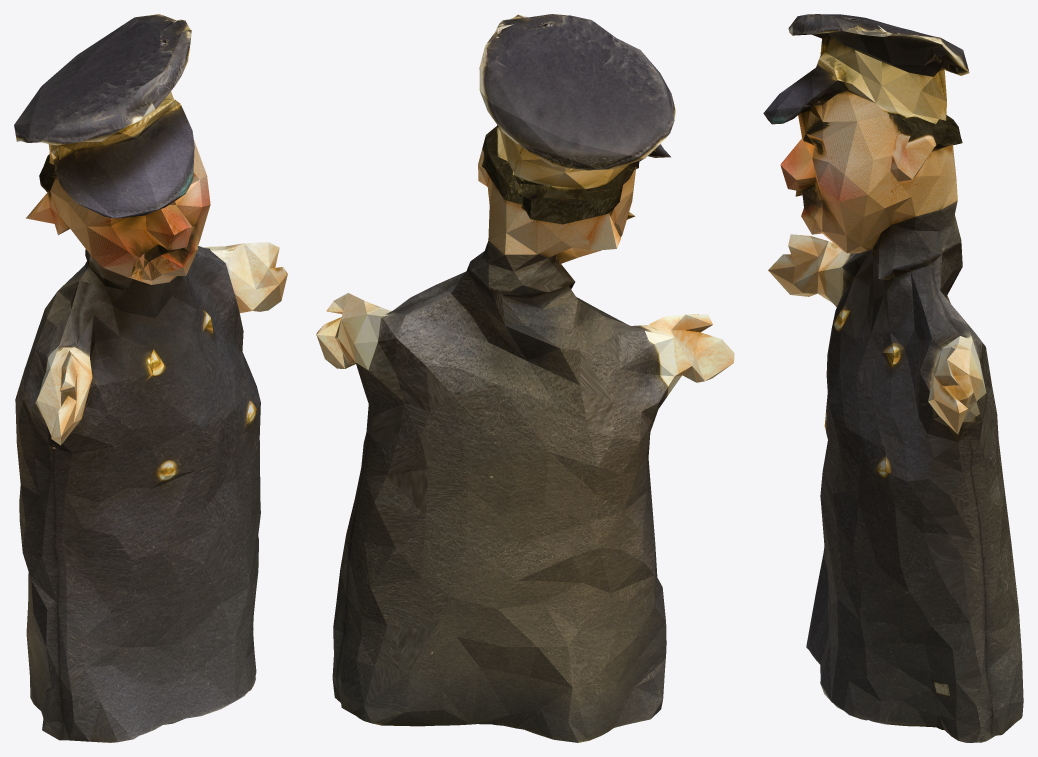
The model's file is puppet.obj.
3 views of the same model, side by side, from view 1: azimuth 30°, elevation 25°; view 2: azimuth 150°, elevation 25°; view 3: azimuth 270°, elevation 25° (orthographic).
Visible parts, largest first — view 1: model; view 2: model; view 3: model.
Boxes of the visible parts, x1,y1,x2,y2 form: model: (14,14,287,742); model: (316,14,734,742); model: (763,14,1023,742).
Bounding box in the file's own units: 0.8026 × 1.57 × 0.56.
Materials: 4 (4 with a texture image).
